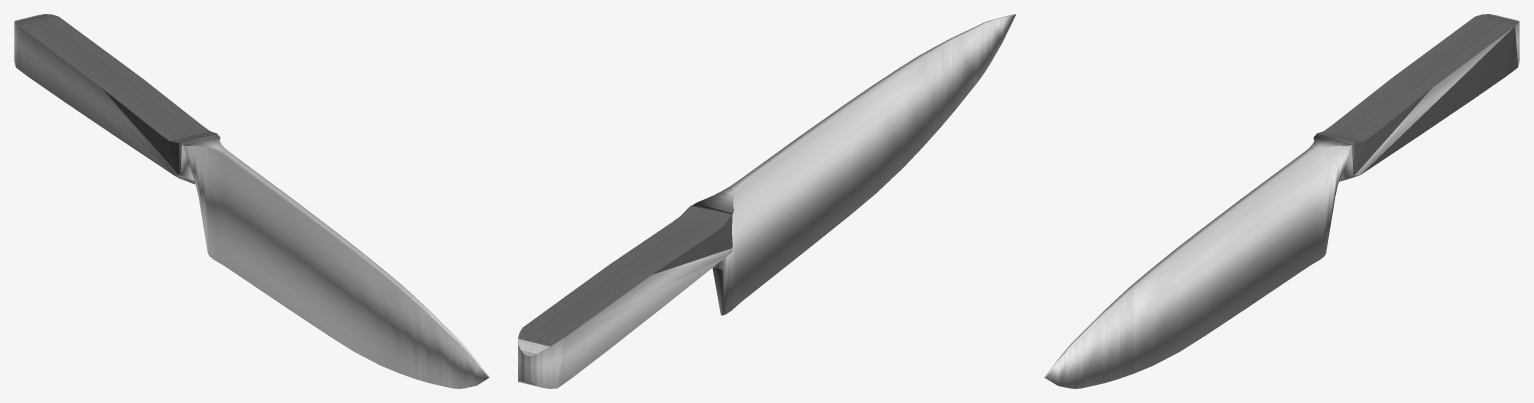
Rendered from bulletKnife.obj.
3 renders of one model, left to right at view 1: azimuth 30°, elevation 25°; view 2: azimuth 150°, elevation 25°; view 3: azimuth 330°, elevation 25°, orthographic. The views are drawn at different scales.
Visible parts, largest first — view 1: 立方体.001; view 2: 立方体.001; view 3: 立方体.001.
Part boxes in pixels (x1,y1,x2,y2): 立方体.001: (14, 14, 489, 388); 立方体.001: (518, 14, 1015, 388); 立方体.001: (1044, 14, 1519, 388).
Size of the model in its own units: 0.3342 by 0.8853 by 6.57.
2 materials, 2 textured.
